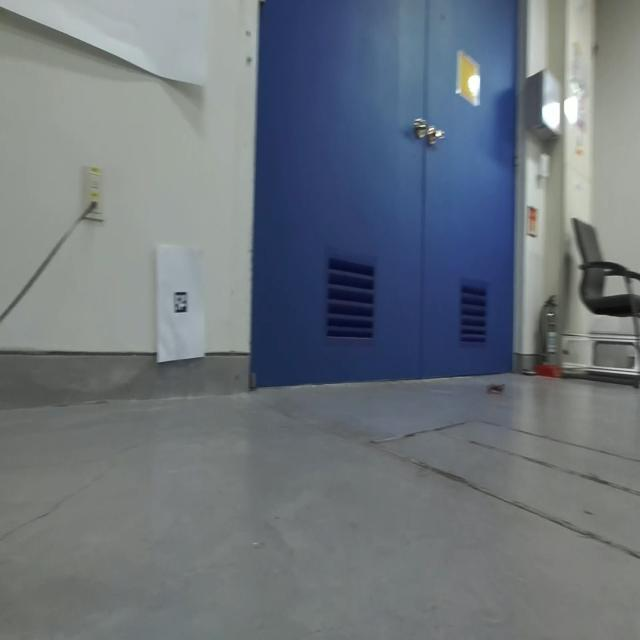crazyflie: (483, 378, 506, 400)
